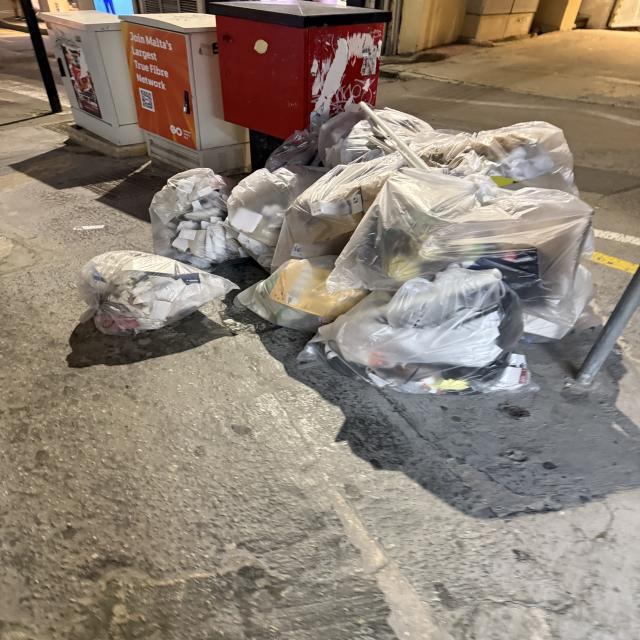Recyclable Material -Grey Bags-: (74, 109, 603, 393)
